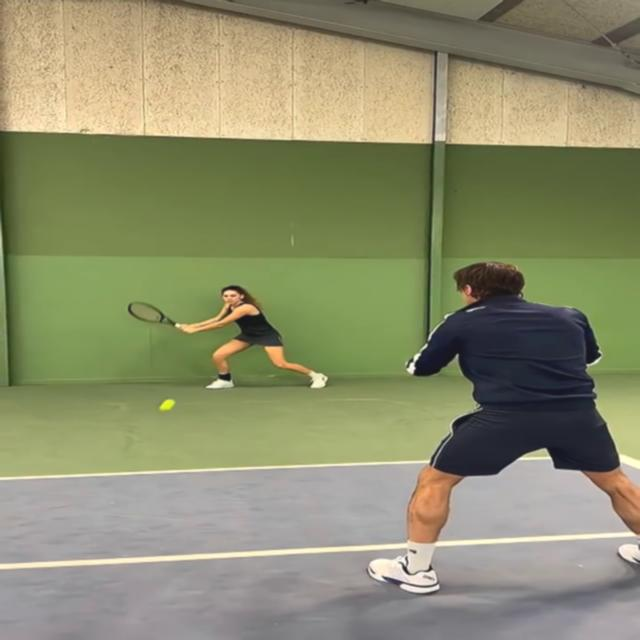tennis_ball: (162, 400, 172, 408)
